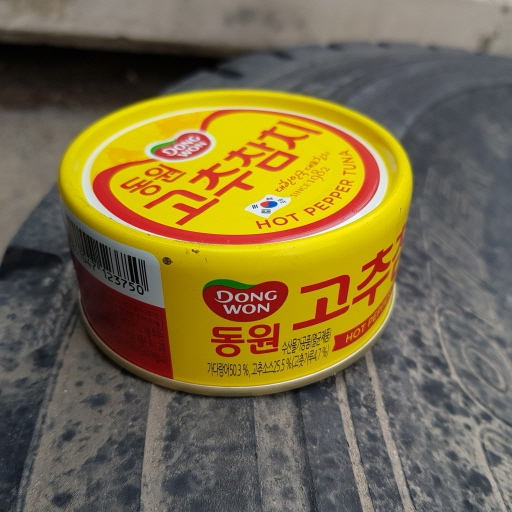Metal_1: (59, 90, 417, 397)
